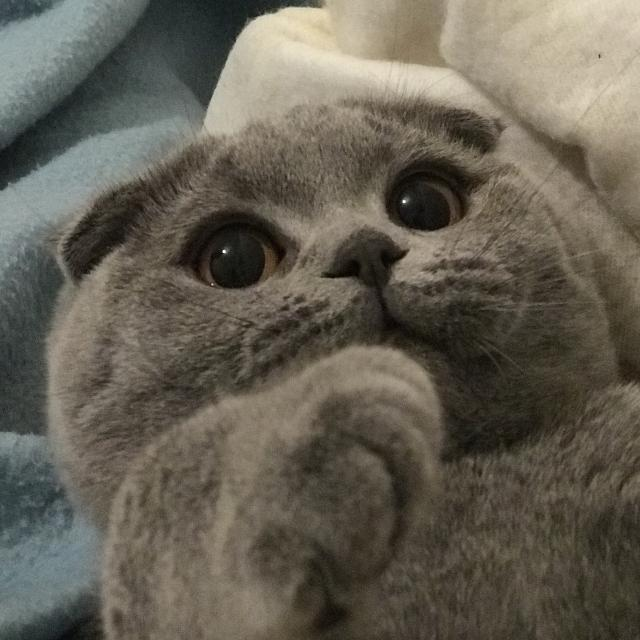Scottish Fold: (44, 89, 639, 640)
